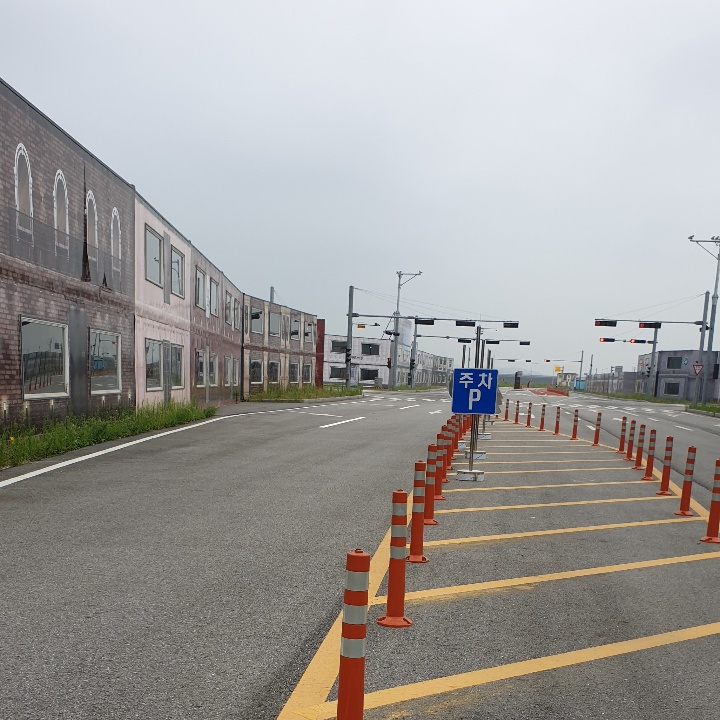parking: (464, 383, 485, 414)
